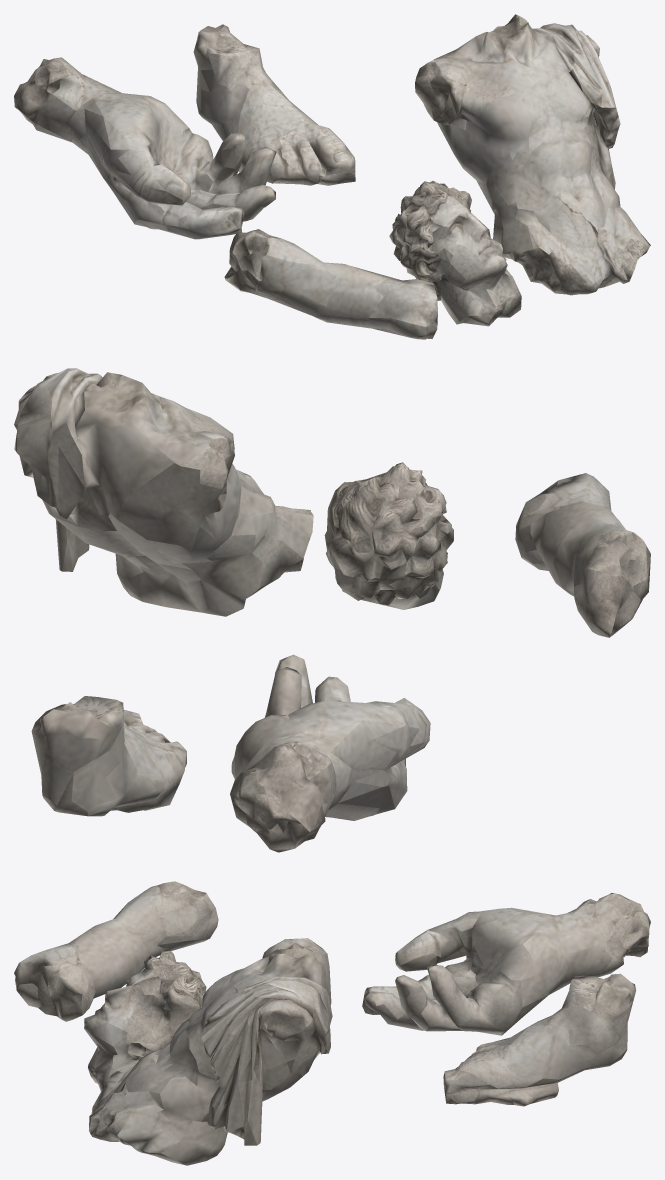
Rendered from marble-apollo.glb.
3 renders of one model, top to bottom at view 1: azimuth 30°, elevation 25°; view 2: azimuth 150°, elevation 25°; view 3: azimuth 270°, elevation 25°, orthographic. The views are drawn at different scales.
Parts seen in each view (by area): view 1: marble-apollo; view 2: marble-apollo; view 3: marble-apollo.
Boxes of the visible parts, x1,y1,x2,y2 form: marble-apollo: (14, 14, 650, 339); marble-apollo: (14, 368, 650, 852); marble-apollo: (14, 881, 650, 1165).
Bounding box in the file's own units: 1.37 × 0.6445 × 1.9.
Materials: 1 (1 with a texture image).
